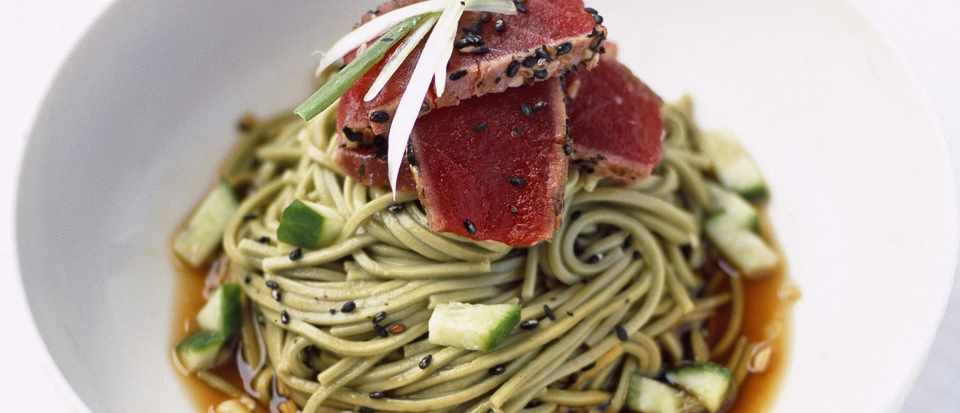Soba: (195, 81, 746, 413)
